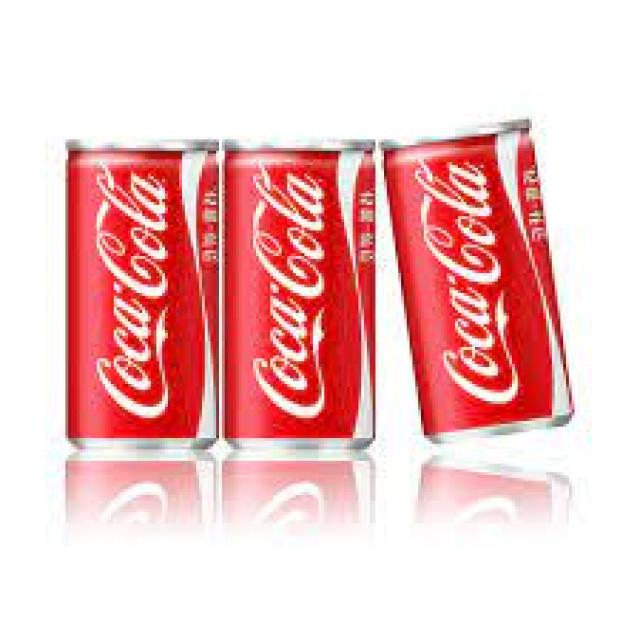Coca-Cola: (382, 119, 584, 459), (54, 135, 222, 468), (223, 141, 387, 450)
